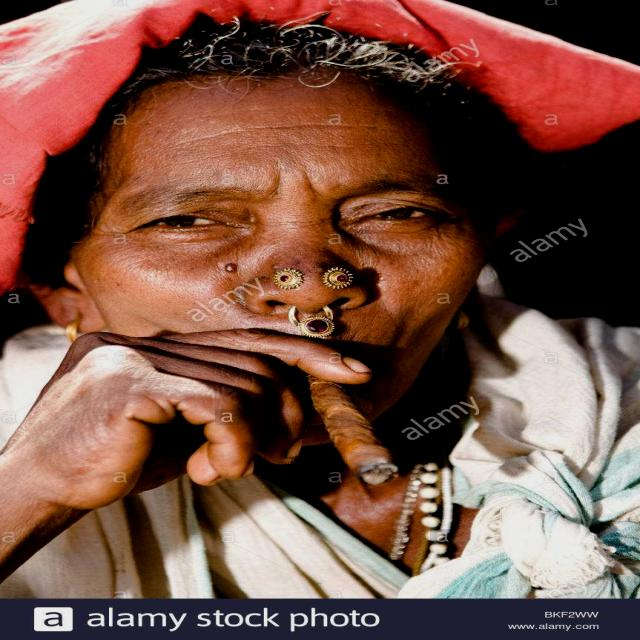Smooking: (302, 370, 414, 494)
